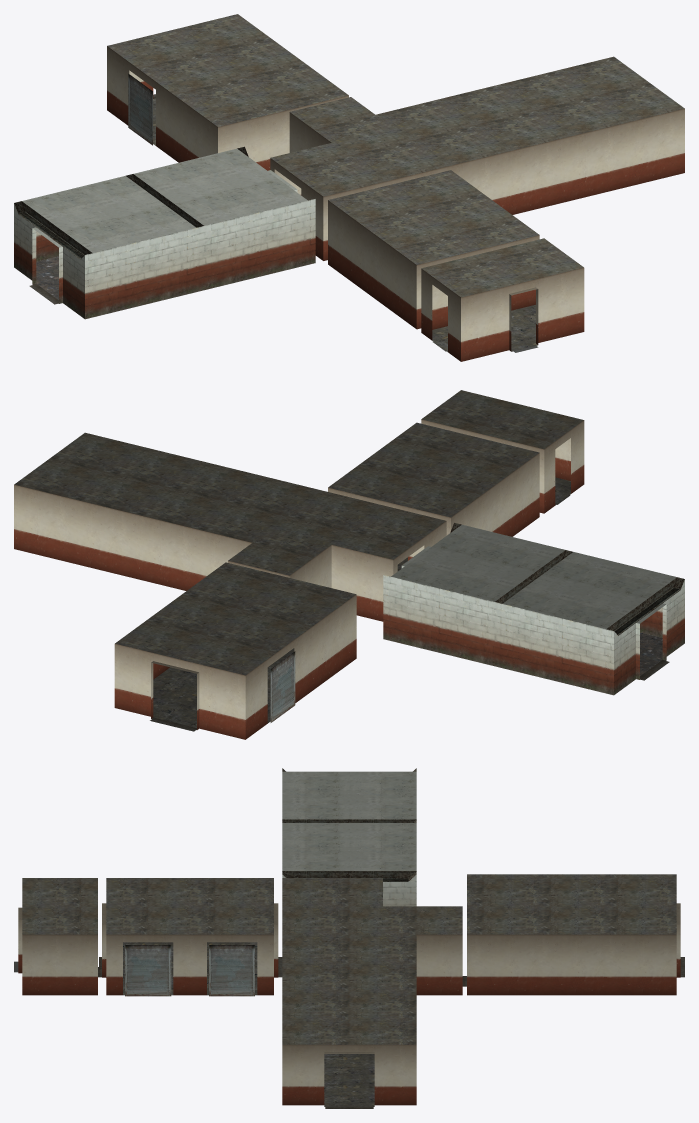
Rendered from intersecting_corridor.fbx.
The picture shows the model from 3 angles, top to bottom: view 1: azimuth 30°, elevation 25°; view 2: azimuth 150°, elevation 25°; view 3: azimuth 270°, elevation 25°; orthographic projection. The views are drawn at different scales.
Visible parts, largest first — view 1: intersecting_corridor.001; view 2: intersecting_corridor.001; view 3: intersecting_corridor.001.
Part boxes in pixels (x1=…): intersecting_corridor.001: x1=14, y1=14, x2=684, y2=361; intersecting_corridor.001: x1=14, y1=390, x2=684, y2=739; intersecting_corridor.001: x1=14, y1=768, x2=684, y2=1108.
Size of the model in its own units: 32.64 by 3.26 by 32.64.
10 materials, 10 textured.
